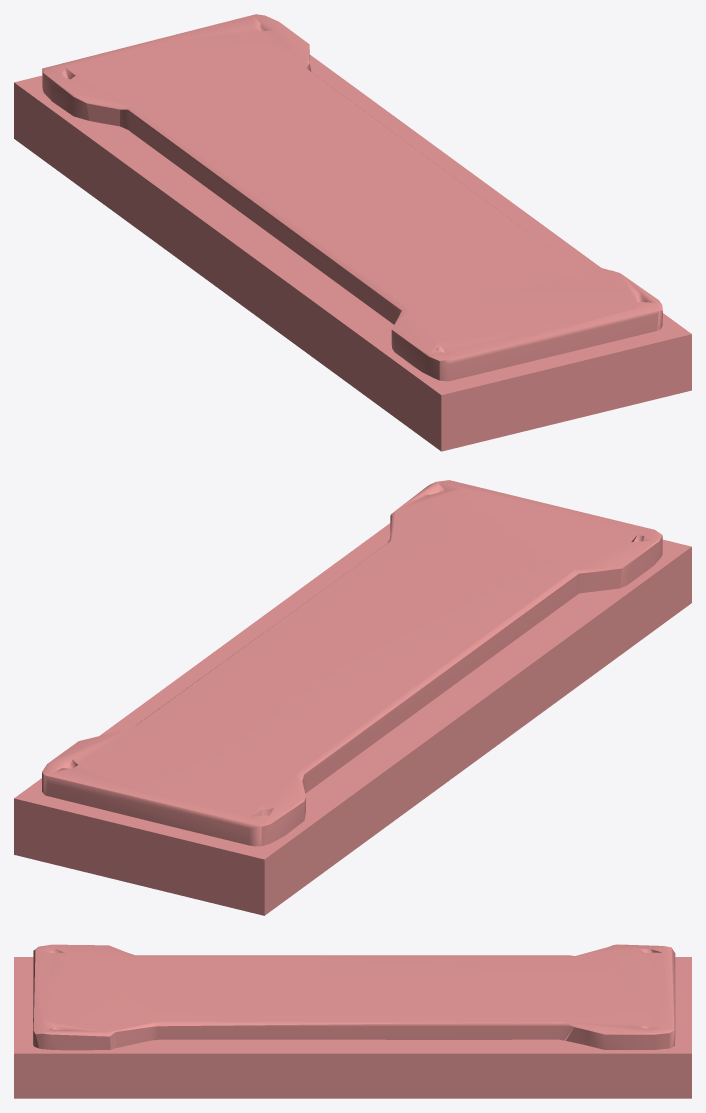
File: ComplexWall_3x1_02_Final.fbx
The picture shows the model from 3 angles, top to bottom: view 1: azimuth 30°, elevation 25°; view 2: azimuth 150°, elevation 25°; view 3: azimuth 270°, elevation 25°; orthographic projection. The views are drawn at different scales.
Visible parts, largest first — view 1: Final_ComplexWall_3x1_02; view 2: Final_ComplexWall_3x1_02; view 3: Final_ComplexWall_3x1_02.
Boxes of the visible parts, left/top/right/bottom form: Final_ComplexWall_3x1_02: left=14, top=14, right=691, bottom=451; Final_ComplexWall_3x1_02: left=14, top=480, right=691, bottom=915; Final_ComplexWall_3x1_02: left=14, top=944, right=691, bottom=1098.
Size of the model in its own units: 102 by 30.06 by 300.
